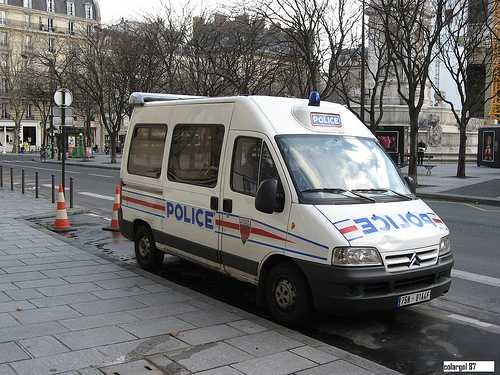Police Van: (106, 87, 478, 318)
